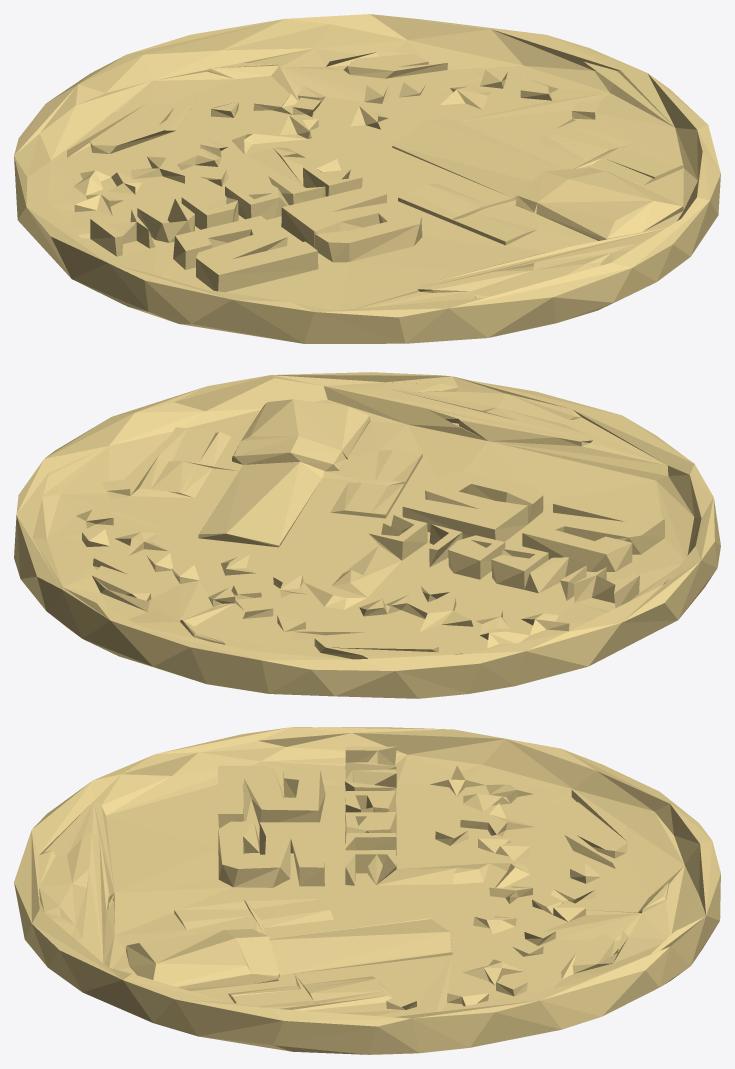
Rendered from hubble-medallion.glb.
3 renders of one model, top to bottom at view 1: azimuth 30°, elevation 25°; view 2: azimuth 150°, elevation 25°; view 3: azimuth 270°, elevation 25°, orthographic.
Visible parts, largest first — view 1: Hubble 25th medallion.stl; view 2: Hubble 25th medallion.stl; view 3: Hubble 25th medallion.stl.
Boxes of the visible parts, box(x1,y1,x2,y2) form: Hubble 25th medallion.stl: box(14, 14, 720, 343); Hubble 25th medallion.stl: box(14, 372, 720, 698); Hubble 25th medallion.stl: box(14, 727, 720, 1054).
Size of the model in its own units: 84.58 by 4.99 by 84.43.
